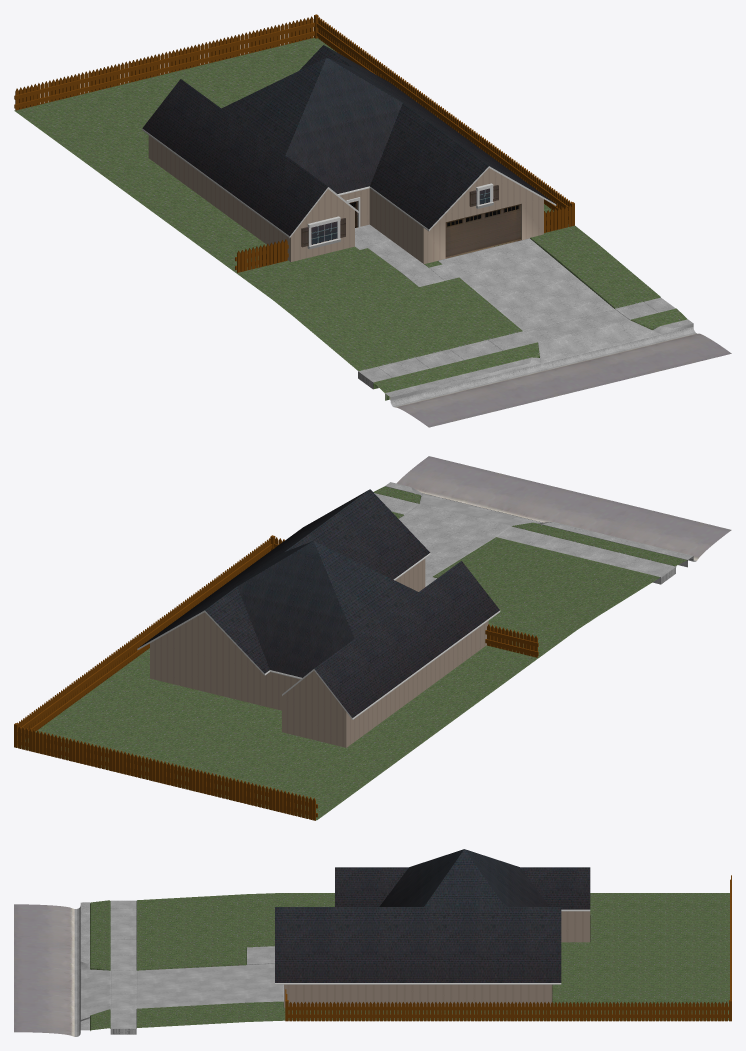
File: house.glb
3 views of the same model, one above another, from view 1: azimuth 30°, elevation 25°; view 2: azimuth 150°, elevation 25°; view 3: azimuth 270°, elevation 25° (orthographic). The views are drawn at different scales.
Visible parts, largest first — view 1: Suburb; view 2: Suburb; view 3: Suburb.
Boxes of the visible parts, x1,y1,x2,y2 form: Suburb: (14, 14, 731, 427); Suburb: (14, 456, 731, 820); Suburb: (14, 849, 731, 1036).
Bounding box in the file's own units: 25 × 11.54 × 59.31.
Materials: 13 (10 with a texture image).
